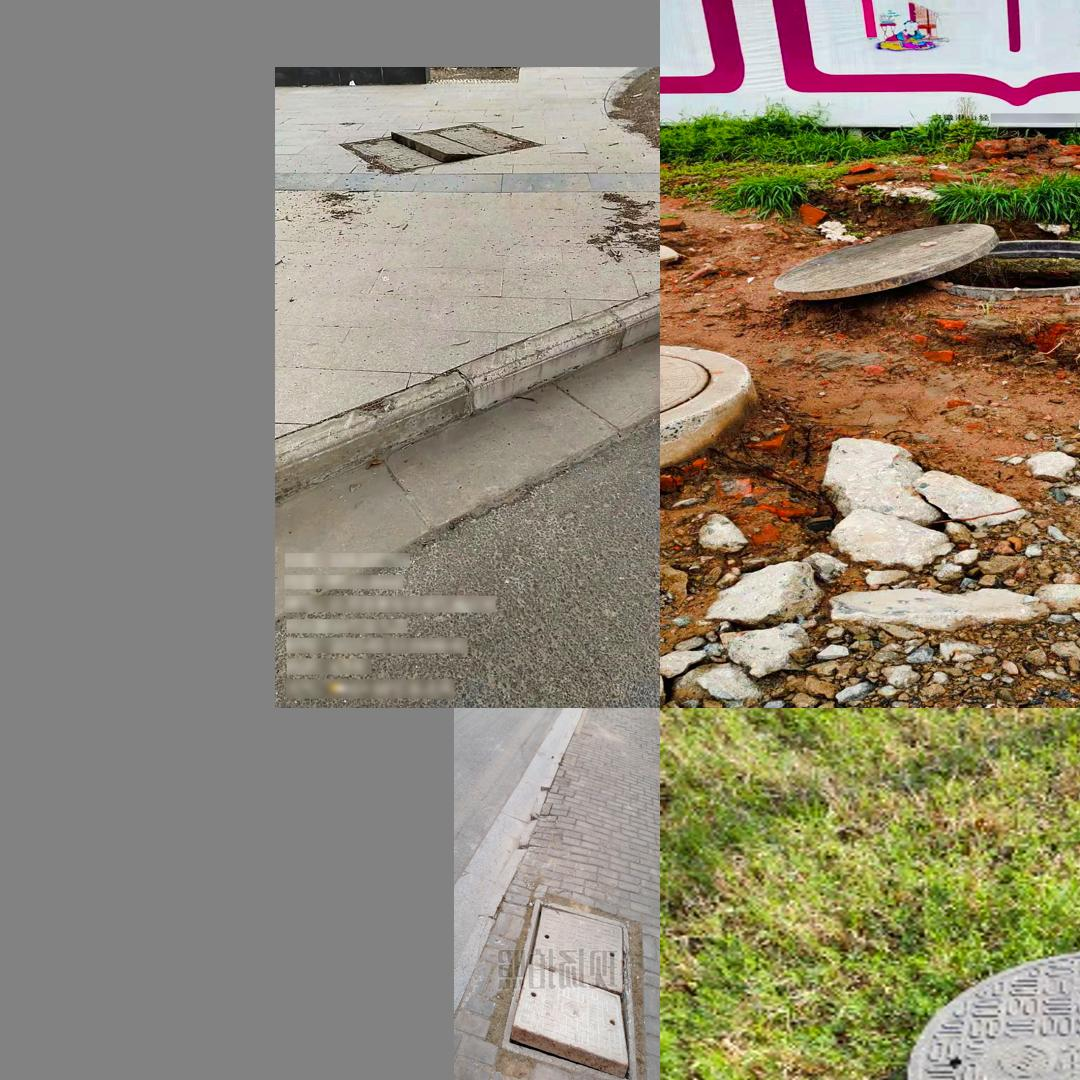uncovered: (756, 212, 1080, 304), (876, 951, 1080, 1080), (496, 936, 627, 1067), (340, 124, 543, 172)
